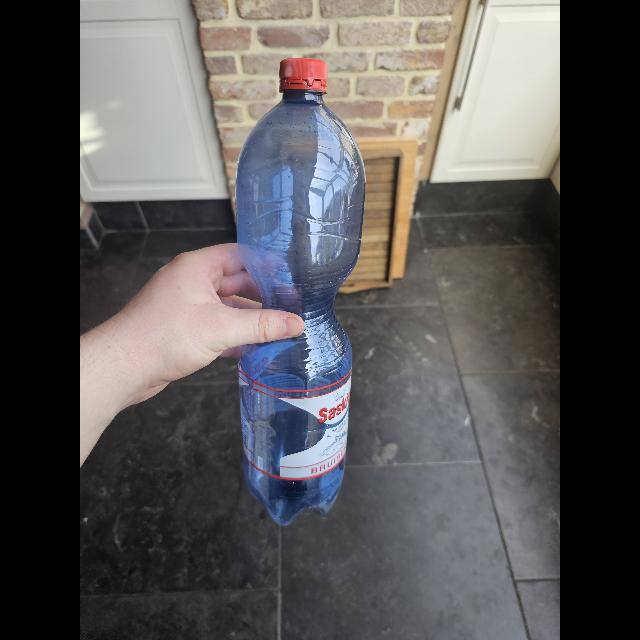Plastic: (234, 57, 366, 529)
